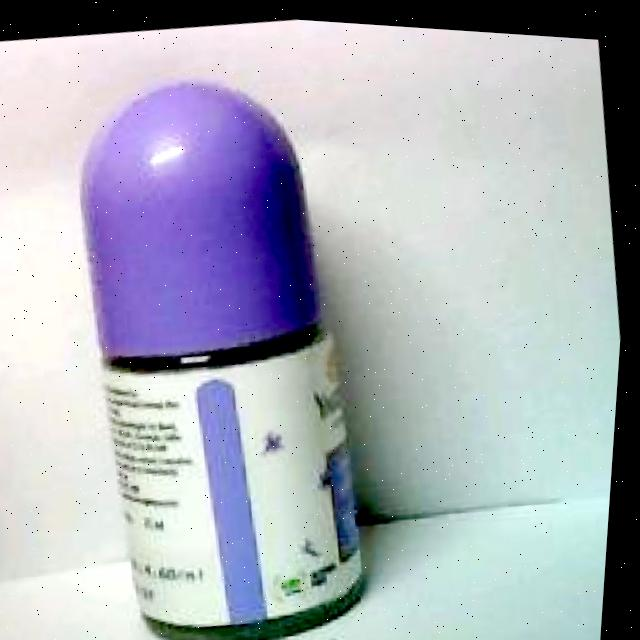yardley_rollon: (80, 78, 373, 640)
